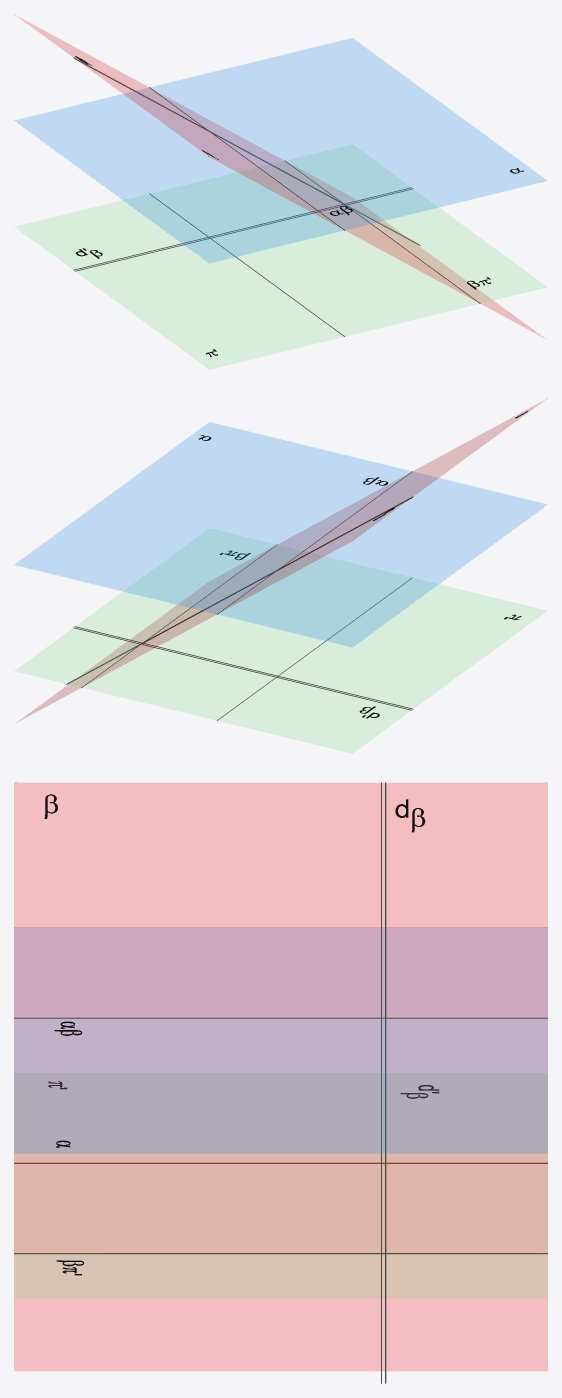
The model's file is int_pq_phN.glb.
3 renders of one model, top to bottom at view 1: azimuth 30°, elevation 25°; view 2: azimuth 150°, elevation 25°; view 3: azimuth 270°, elevation 25°, orthographic. The views are drawn at different scales.
Visible parts, largest first — view 1: root, Pipe (×3); view 2: root, Pipe (×3); view 3: root, Pipe (×4).
Boxes of the visible parts, left/top/right/bottom form: root: left=14, top=15, right=546, bottom=369; Pipe (×3): left=73, top=58, right=420, bottom=271; root: left=15, top=399, right=547, bottom=753; Pipe (×3): left=66, top=497, right=413, bottom=710; root: left=14, top=783, right=547, bottom=1370; Pipe (×4): left=14, top=782, right=547, bottom=1383.
Bounding box in the file's own units: 2.6 × 1.95 × 2.54.
